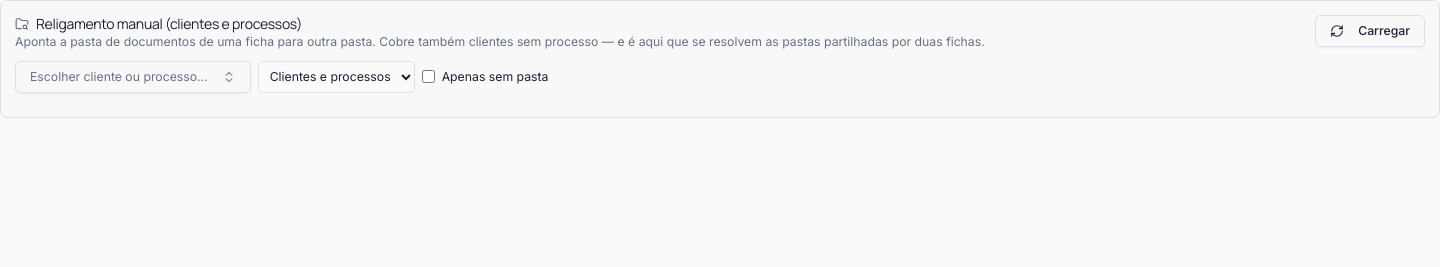
Test case: S3RelinkPanel › o aviso de partilha fica na linha, não só no instante do clique
Click the button "Carregar": (1370,31) [1315,15,1425,46]
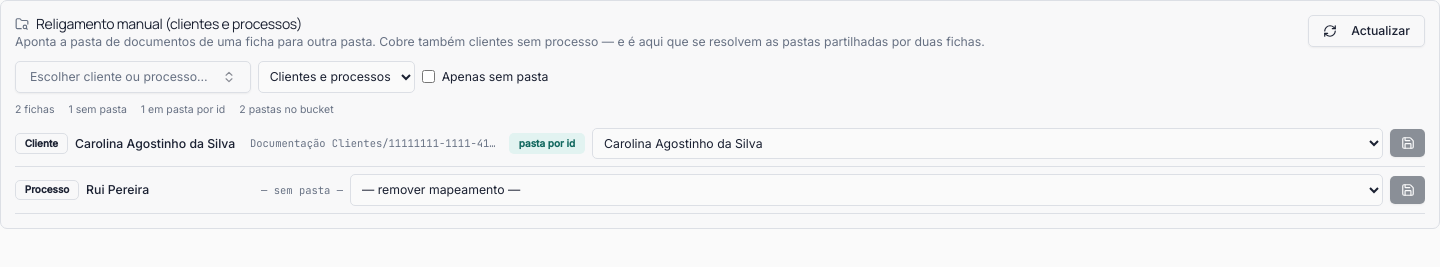
Select "Carolina_Silva (2 fichas)" in the dropdown named "Pasta de Rui Pereira": (866,190) [350,174,1383,206]
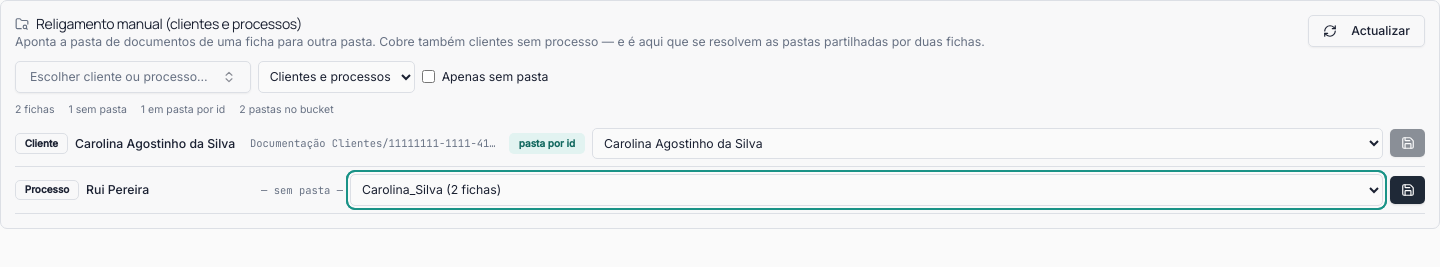
Click the button named "guardar pasta de rui pereira" in the row of "— sem pasta —": (1408,190) [1390,176,1425,204]
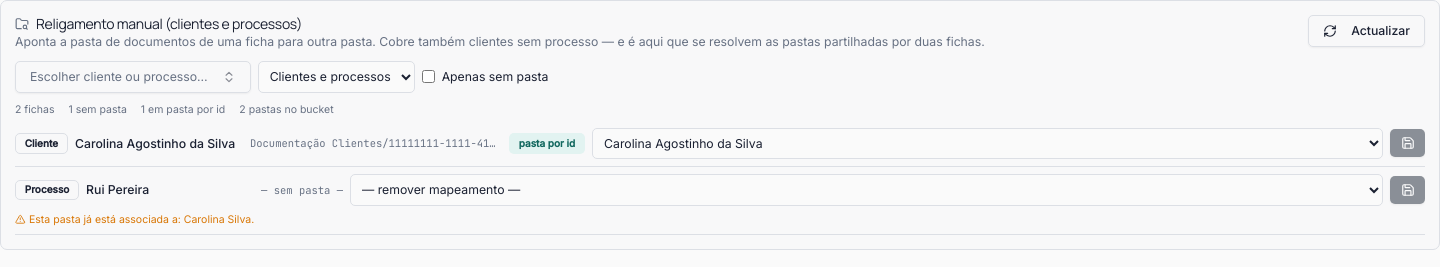
Check: the text "Esta pasta já está associada a: Carolina Silva." is shown, box [15,213,254,226]
